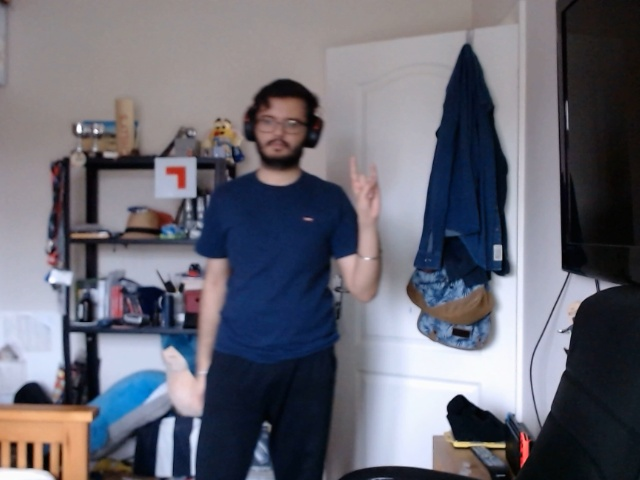Rock on: (344, 147, 396, 228)
